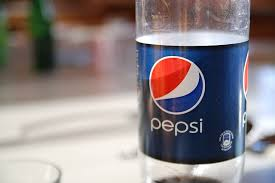pepsi: (145, 54, 210, 138), (147, 55, 209, 116), (148, 116, 205, 136)
